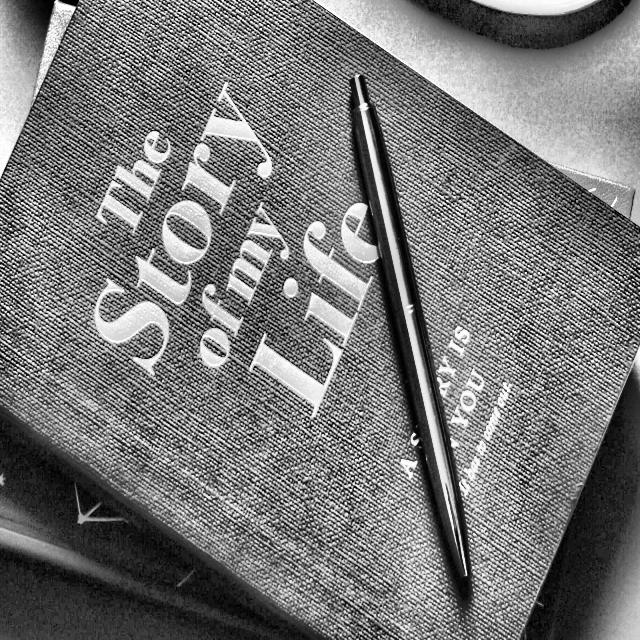Notebook: (9, 1, 640, 640)
Pen: (338, 75, 502, 586)
